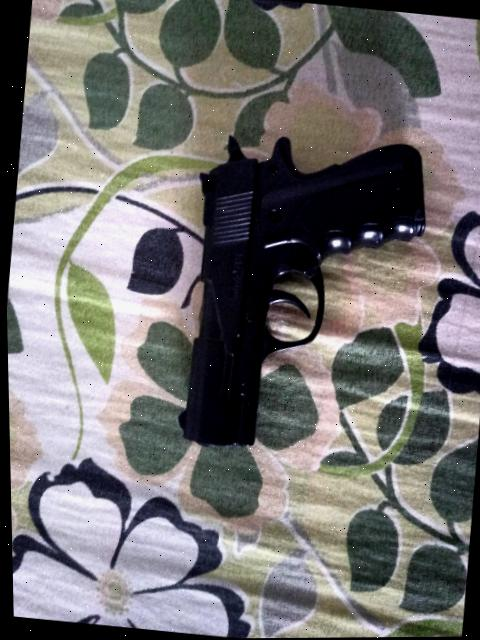pistol: (165, 123, 436, 471)
